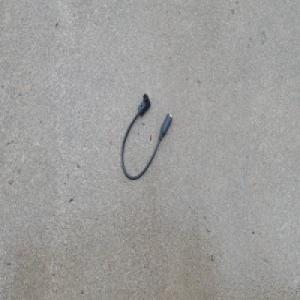Wire: (120, 92, 173, 181)
